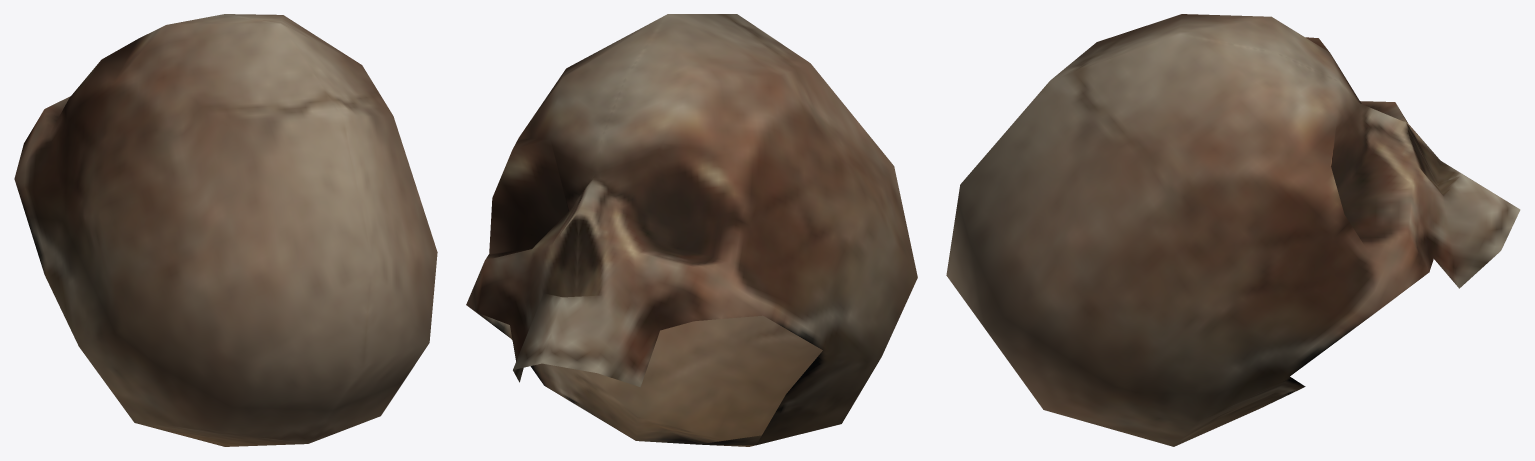
The model's file is skeletons_skull_foliage.fbx.
3 views of the same model, side by side, from view 1: azimuth 30°, elevation 25°; view 2: azimuth 150°, elevation 25°; view 3: azimuth 270°, elevation 25° (orthographic). The views are drawn at different scales.
Parts seen in each view (by area): view 1: skeletons_skull_foliage; view 2: skeletons_skull_foliage; view 3: skeletons_skull_foliage.
Boxes of the visible parts, left/top/right/bottom form: skeletons_skull_foliage: left=14, top=14, right=437, bottom=446; skeletons_skull_foliage: left=466, top=14, right=917, bottom=446; skeletons_skull_foliage: left=946, top=14, right=1520, bottom=446.
Bounding box in the file's own units: 17.25 × 19.85 × 25.34.
